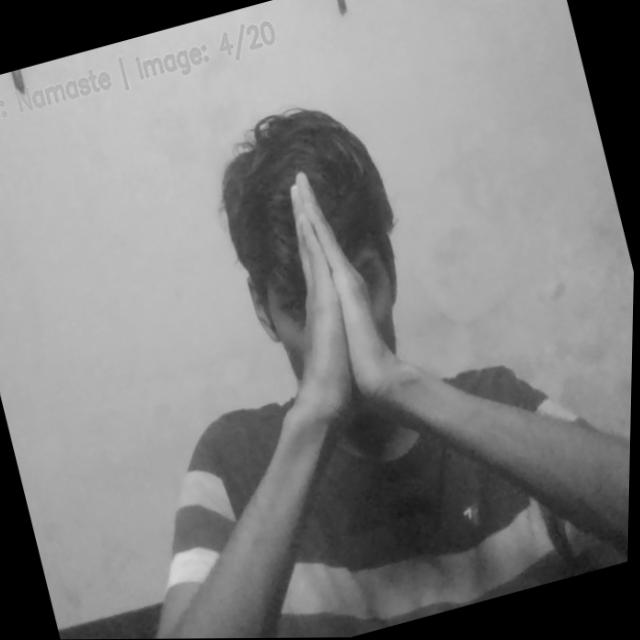Namaste: (231, 153, 435, 456)
